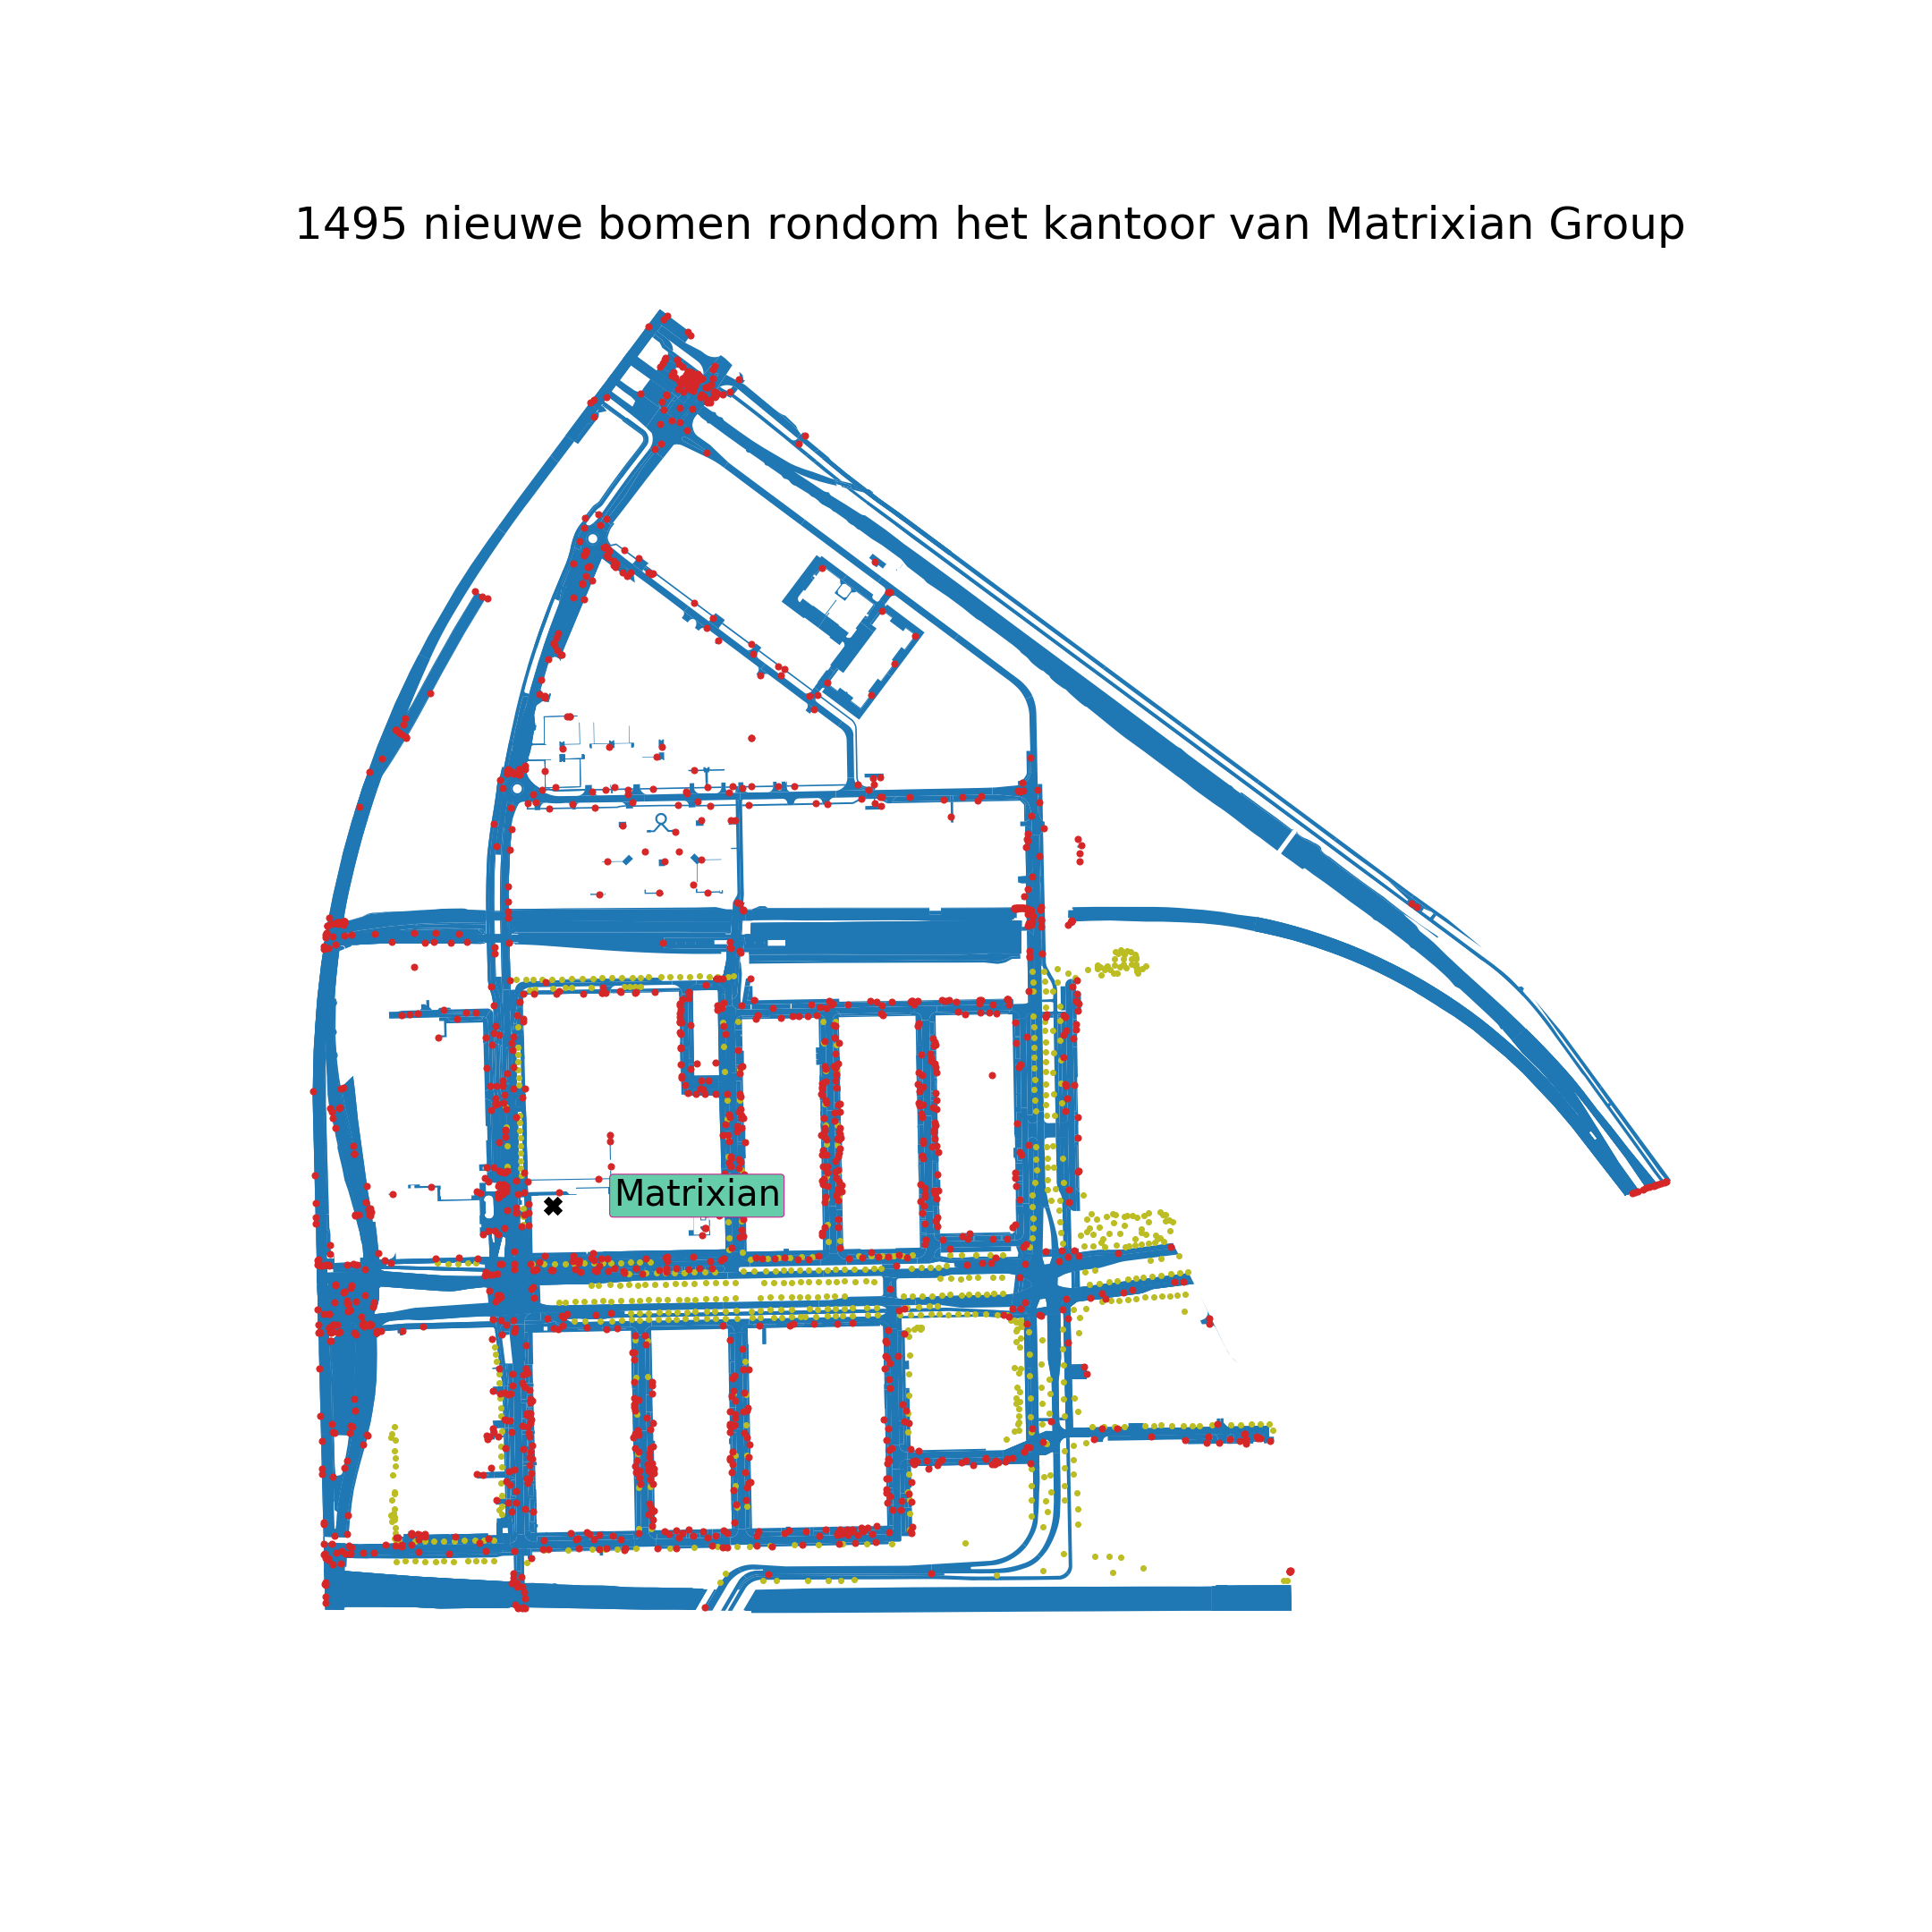

What the dashboard file says about the page in this screenshot:
{"tool":"tableau","page":{"name":"Dashboard 1","canvas":[1000,1000],"units":"permille","ordinal":0},"visuals":[{"type":"worksheet","title":"pt","mark":"Line","rows":["0"],"cols":["tiny_forest_area"],"box":[10,14.6,980,970.9]},{"type":"legend","title":"pt","param":"[federated.0cbgzb50fwx32t0zqqtpc04w2hoo].[none:Calculation_1052153505004306432:n","box":[810.5,71,139.7,306]}]}

Visuals, with their boxes on the dashboard's canvas, which has no fixed pixel size, in thousandths of its width and height (x1, y1, x2, y2). These are canvas units, not pixel positions in the 1932x1932 screenshot, which may show the page scaled, cropped or inside an application window:
"pt" worksheet (Line marks): [10,15,990,986]
"pt" legend: [810,71,950,377]
